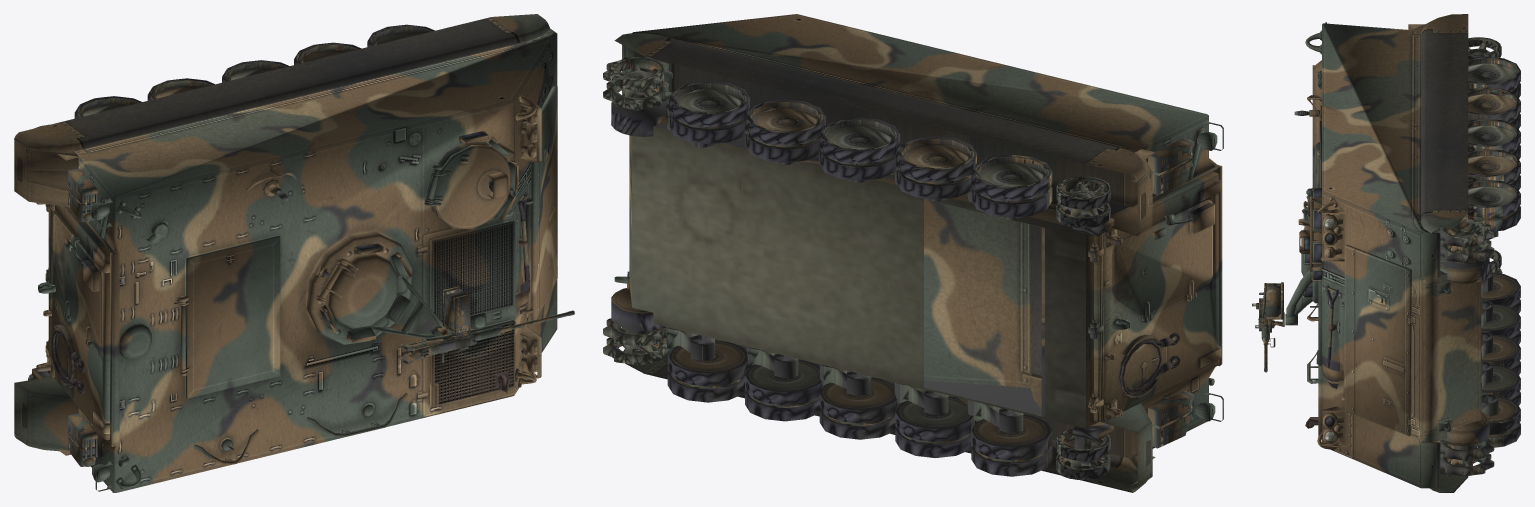
Rendered from m113a1_corrected.obj.
3 renders of one model, left to right at view 1: azimuth 30°, elevation 25°; view 2: azimuth 150°, elevation 25°; view 3: azimuth 270°, elevation 25°, orthographic. The views are drawn at different scales.
Visible parts, largest first — view 1: m113a1_notrack_transformed, m113a1_notrack_transformed.001; view 2: m113a1_notrack_transformed, m113a1_notrack_transformed.001; view 3: m113a1_notrack_transformed, m113a1_notrack_transformed.001.
Boxes of the visible parts, box(x1,y1,x2,y2) form: m113a1_notrack_transformed: box(14, 14, 574, 492); m113a1_notrack_transformed.001: box(14, 24, 434, 380); m113a1_notrack_transformed: box(603, 14, 1223, 492); m113a1_notrack_transformed.001: box(603, 57, 1151, 492); m113a1_notrack_transformed: box(1252, 14, 1520, 492); m113a1_notrack_transformed.001: box(1422, 37, 1520, 476).
Size of the model in its own units: 4.74 by 2.69 by 2.48.
2 materials, 2 textured.
